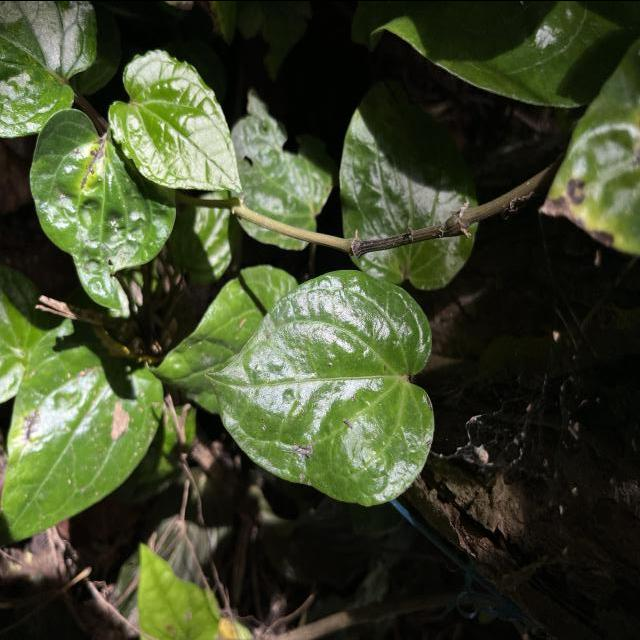Piper betle: (202, 266, 437, 508)
